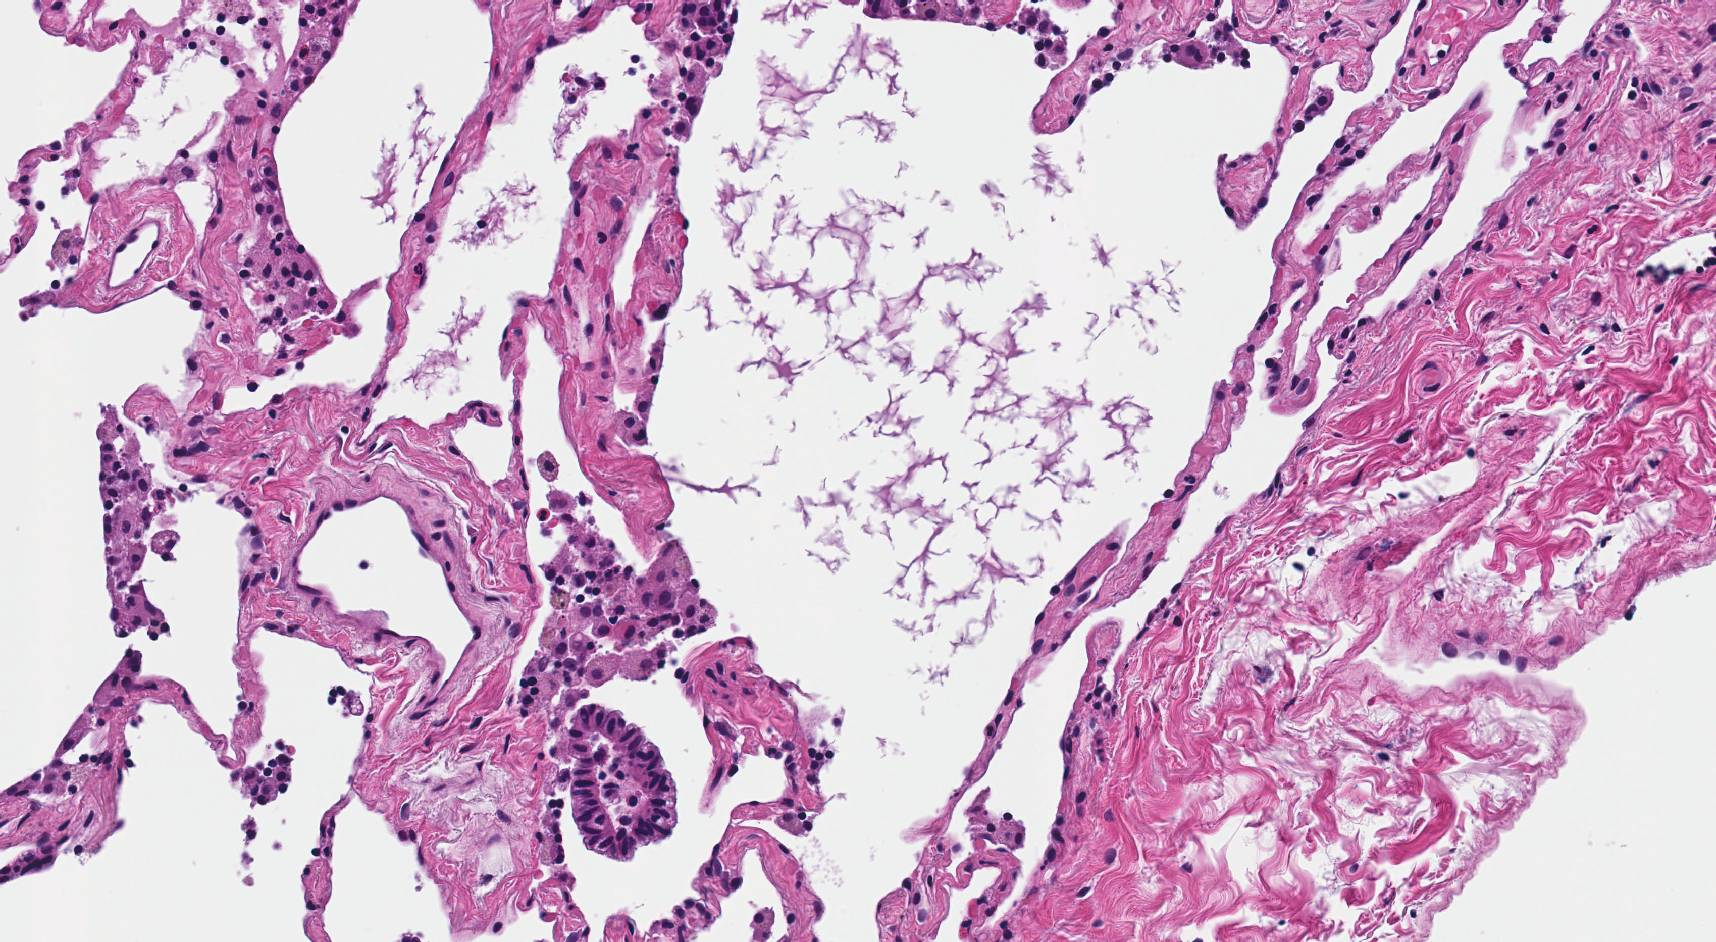stas: (566, 707, 679, 862)
